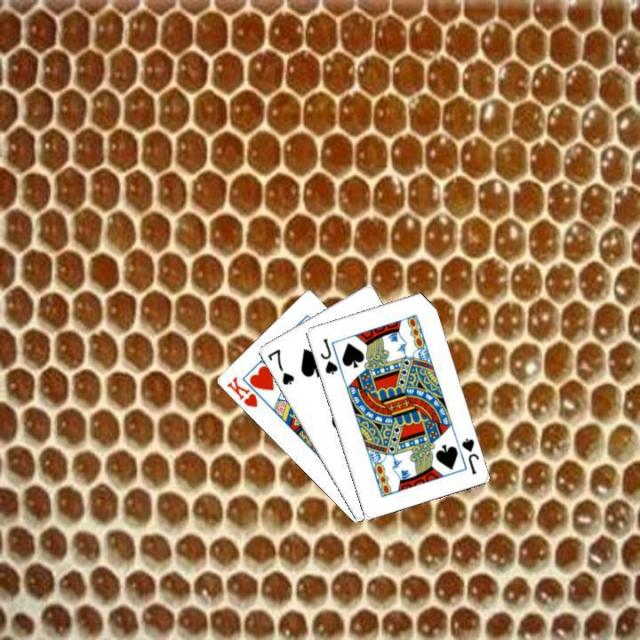7S: (263, 345, 296, 387)
JS: (316, 334, 340, 376), (457, 434, 480, 476)
KH: (222, 372, 260, 409)
